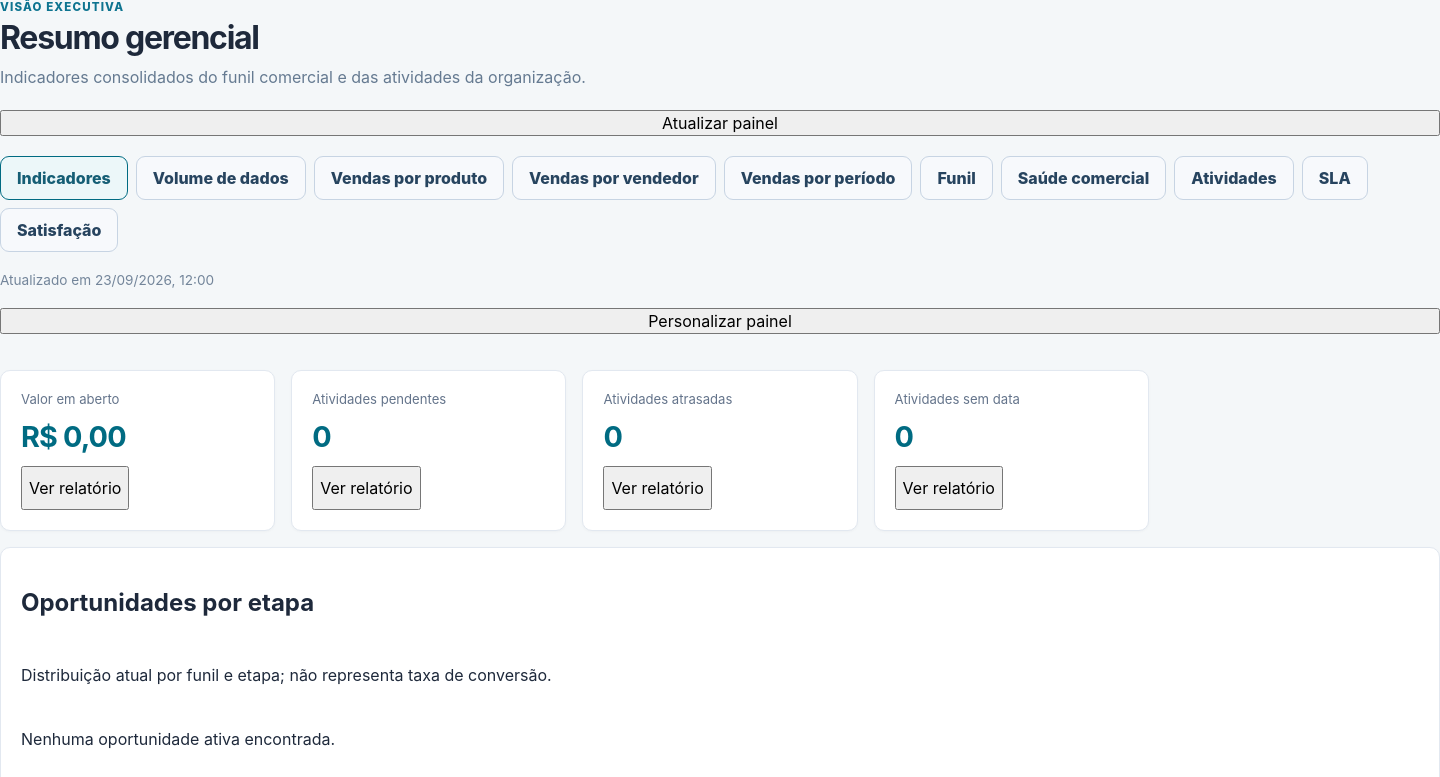
Test: C4.4.3 activities by owner view › opens from the Atividades tab of the management summary
expect the text "Nenhuma oportunidade ativa encontrada." is shown: met, box x1=21 y1=729 x2=335 y2=749
Click the tab "Atividades".
click(1234, 178)  # box x1=1174 y1=156 x2=1294 y2=200
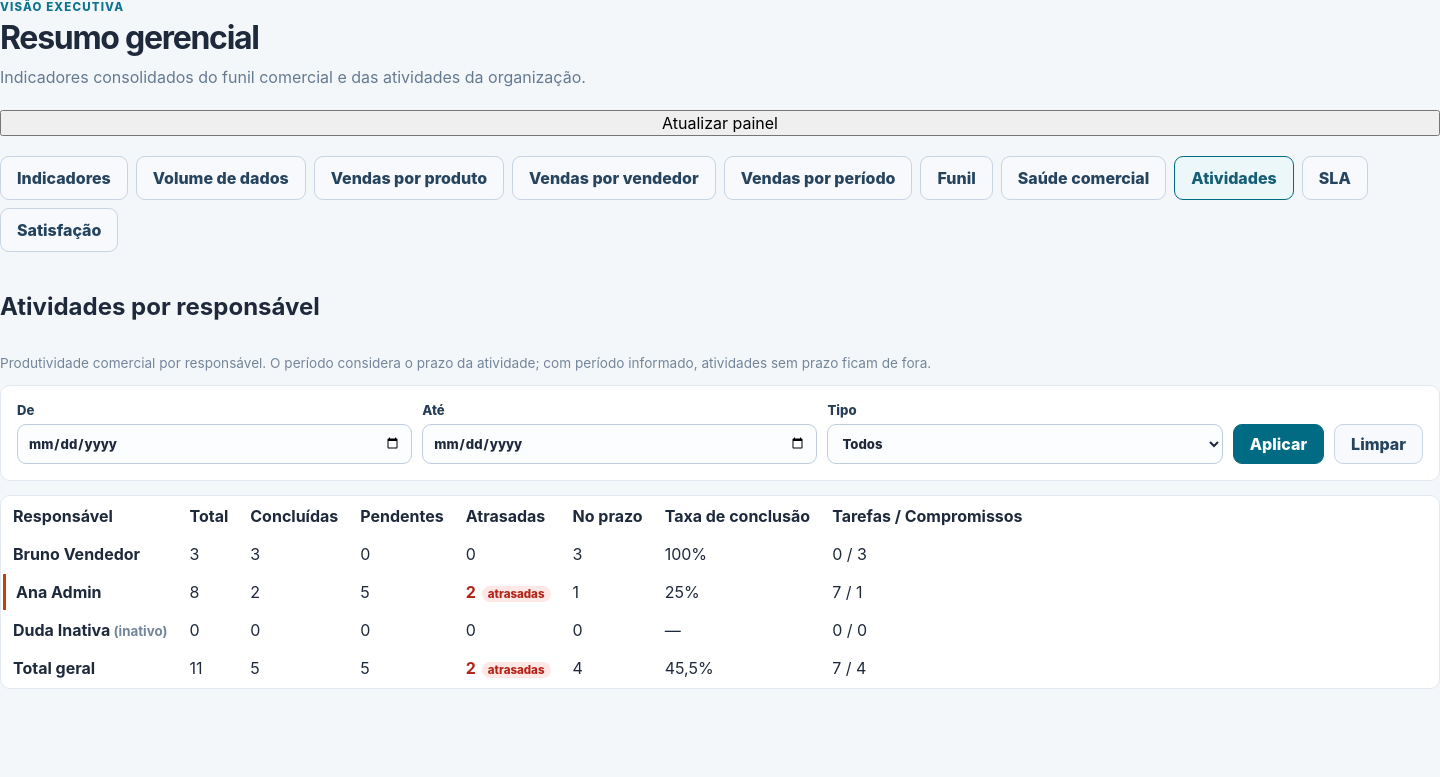
expect the heading "Atividades por responsável" is shown: met, box x1=0 y1=292 x2=320 y2=321
expect the column heading "Ana Admin" is shown: met, box x1=3 y1=574 x2=178 y2=610
